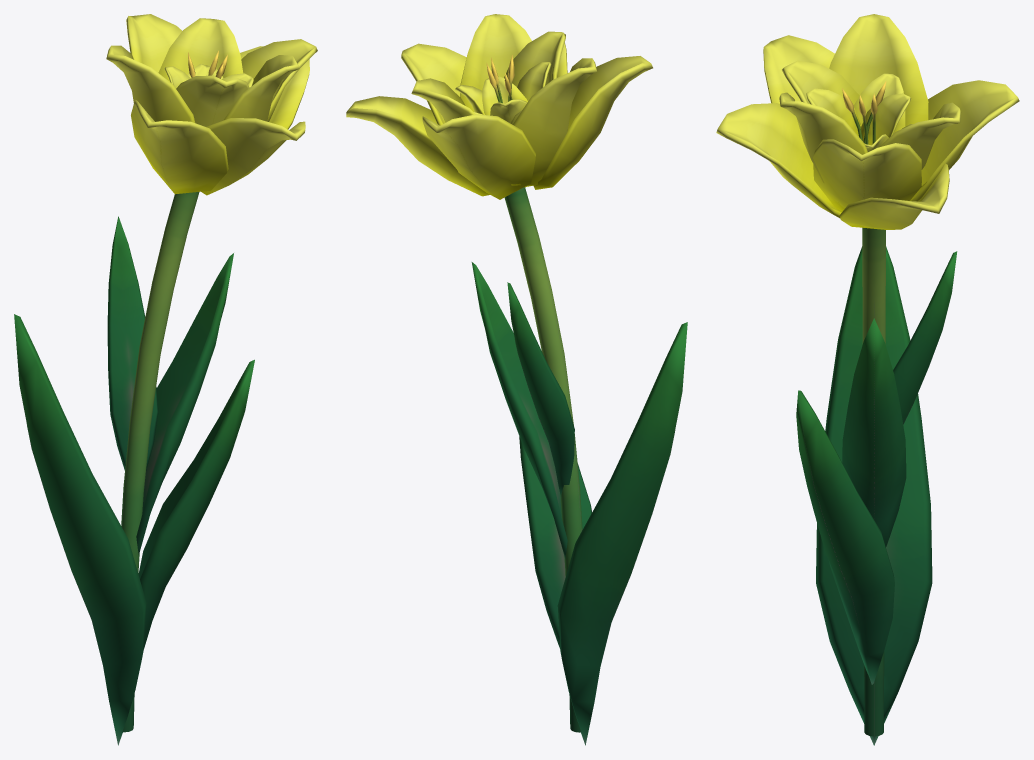
The model's file is tulip_005_02.FBX.
3 views of the same model, side by side, from view 1: azimuth 30°, elevation 25°; view 2: azimuth 150°, elevation 25°; view 3: azimuth 270°, elevation 25° (orthographic). The views are drawn at different scales.
Visible parts, largest first — view 1: hua_02; view 2: hua_02; view 3: hua_02.
Part boxes in pixels (bbox=[...]): hua_02: bbox=[14, 14, 317, 745]; hua_02: bbox=[346, 14, 687, 745]; hua_02: bbox=[716, 14, 1019, 745].
Bounding box in the file's own units: 165 × 346 × 130.
